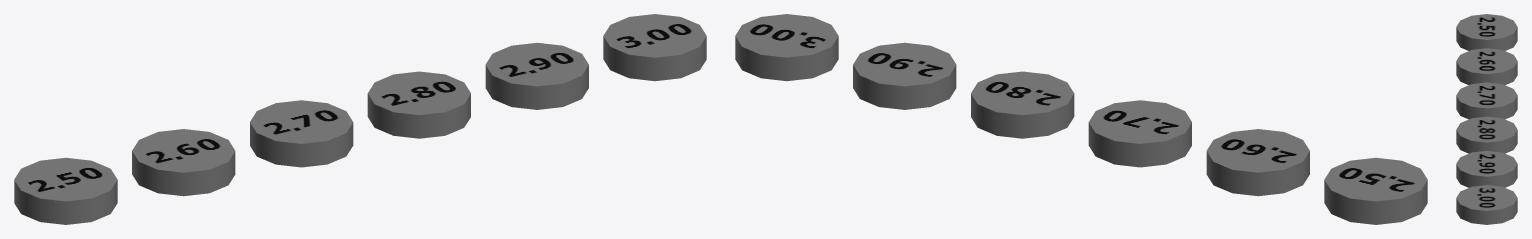
The model's file is ValveShims.fbx.
The picture shows the model from 3 angles, left to right: view 1: azimuth 30°, elevation 25°; view 2: azimuth 150°, elevation 25°; view 3: azimuth 270°, elevation 25°; orthographic projection. The views are drawn at different scales.
Parts seen in each view (by area): view 1: ValveShim_2.6, ValveShim_2.9, ValveShim_2.7, ValveShim_2.8, ValveShim_2.5, ValveShim_3.0; view 2: ValveShim_2.6, ValveShim_2.9, ValveShim_2.7, ValveShim_2.8, ValveShim_2.5, ValveShim_3.0; view 3: ValveShim_3.0, ValveShim_2.5, ValveShim_2.9, ValveShim_2.6, ValveShim_2.7, ValveShim_2.8.
Boxes of the visible parts, x1=… form: ValveShim_2.6: x1=132, y1=129, x2=235, y2=196; ValveShim_2.9: x1=485, y1=42, x2=588, y2=109; ValveShim_2.7: x1=250, y1=100, x2=353, y2=167; ValveShim_2.8: x1=367, y1=71, x2=470, y2=138; ValveShim_2.5: x1=14, y1=157, x2=117, y2=224; ValveShim_3.0: x1=603, y1=14, x2=706, y2=81; ValveShim_2.6: x1=1206, y1=129, x2=1309, y2=196; ValveShim_2.9: x1=853, y1=42, x2=956, y2=109; ValveShim_2.7: x1=1088, y1=100, x2=1191, y2=167; ValveShim_2.8: x1=971, y1=71, x2=1074, y2=138; ValveShim_2.5: x1=1324, y1=157, x2=1427, y2=224; ValveShim_3.0: x1=735, y1=14, x2=838, y2=81; ValveShim_3.0: x1=1456, y1=185, x2=1517, y2=224; ValveShim_2.5: x1=1456, y1=14, x2=1517, y2=50; ValveShim_2.9: x1=1456, y1=151, x2=1517, y2=187; ValveShim_2.6: x1=1456, y1=48, x2=1517, y2=84; ValveShim_2.7: x1=1456, y1=82, x2=1517, y2=119; ValveShim_2.8: x1=1456, y1=116, x2=1517, y2=153.
Bounding box in the file's own units: 23.04 × 0.7634 × 3.04.
